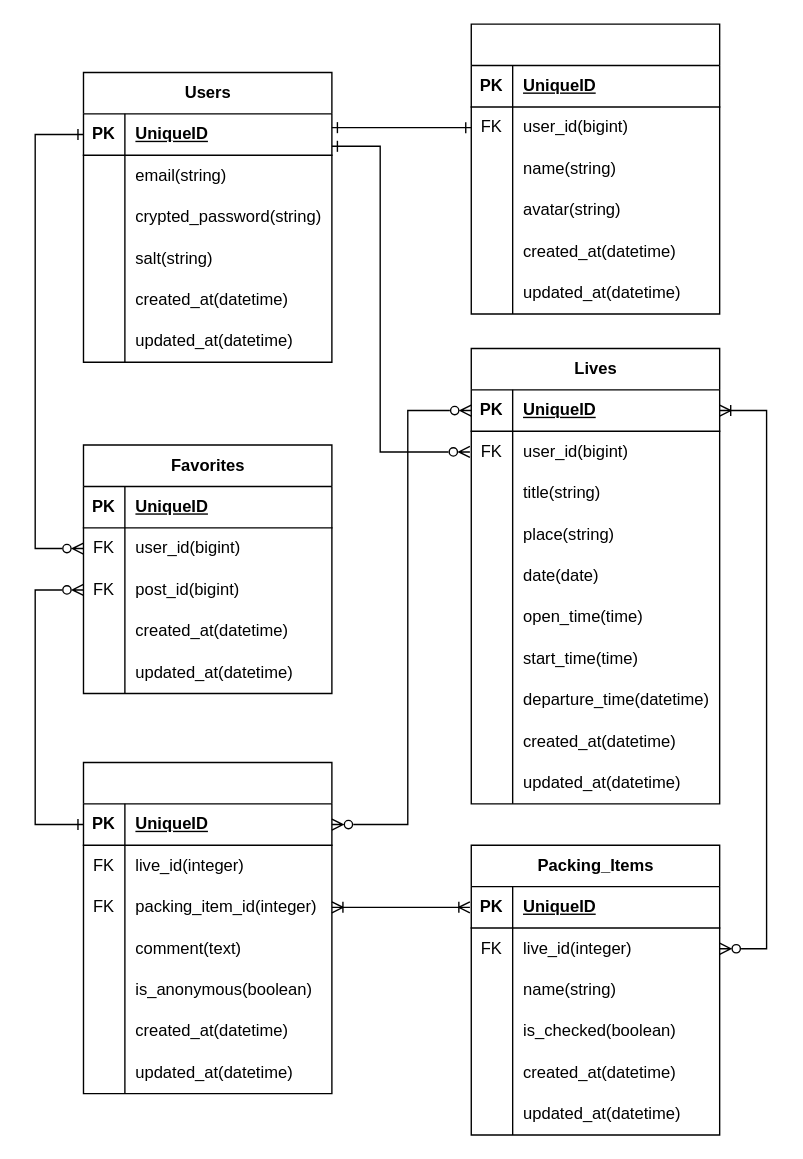
Image size: 803x1159. Some labels were removed from this diagram. The shapes that lost their labels are listed below. From the top down, each one's box as (x1, y1, x2, y2) in pixels, then its label:
(470, 23, 720, 314): Profiles
(82, 761, 332, 1094): Posts
